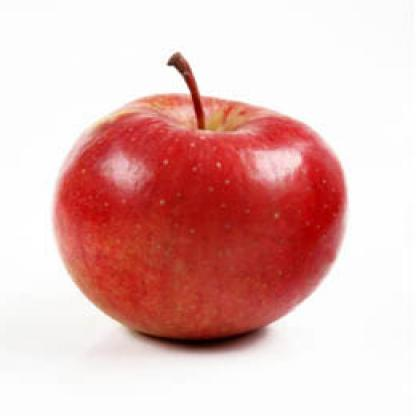apple: (51, 95, 349, 351)
